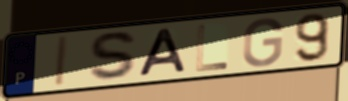9: (293, 12, 331, 63)
A: (136, 26, 189, 79)
G: (240, 16, 285, 69)
I: (53, 34, 71, 89)
L: (194, 23, 230, 74)
S: (87, 30, 141, 84)
